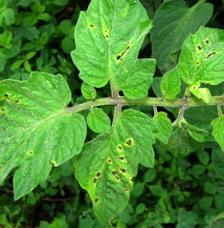Tomato leaf bacterial spot: (0, 69, 92, 201), (63, 106, 160, 228), (64, 0, 160, 101), (177, 24, 224, 92)
